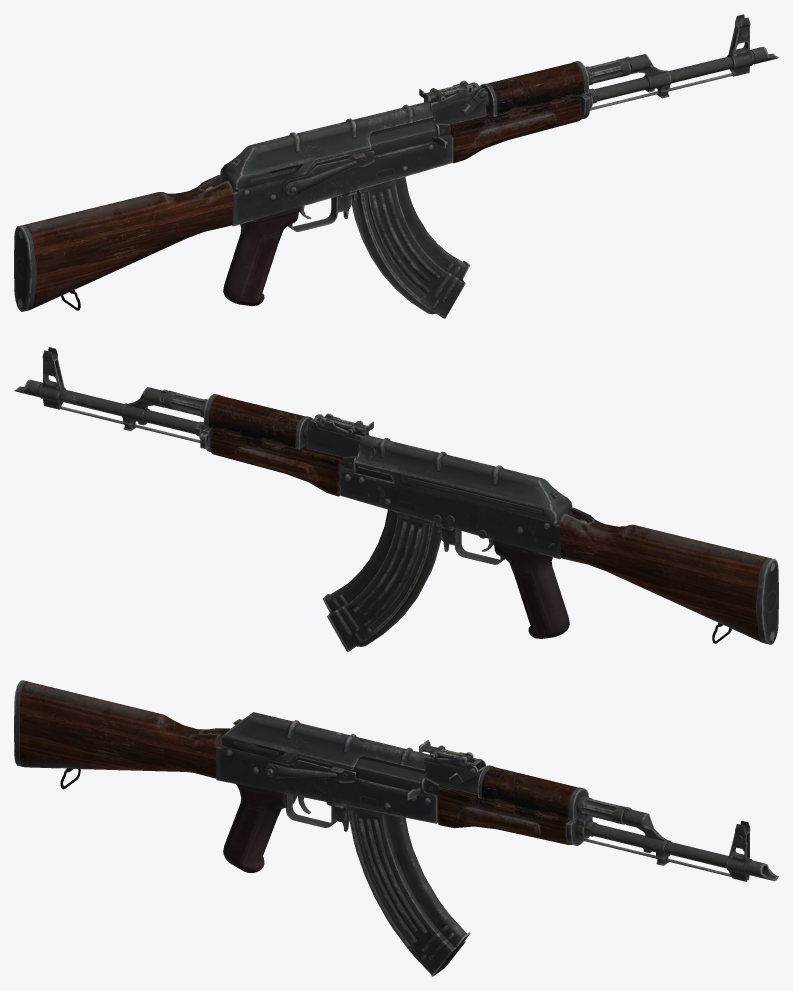
3 views of the same model, one above another, from view 1: azimuth 30°, elevation 25°; view 2: azimuth 150°, elevation 25°; view 3: azimuth 330°, elevation 25° (orthographic).
Visible parts, largest first — view 1: bm_magazine_low_Material #44_0; view 2: bm_magazine_low_Material #44_0; view 3: bm_magazine_low_Material #44_0.
Part boxes in pixels (x1,y1,x2,y2): bm_magazine_low_Material #44_0: (14,14,778,318); bm_magazine_low_Material #44_0: (14,347,778,651); bm_magazine_low_Material #44_0: (14,680,778,976).
Size of the model in its own units: 1.92 by 0.5478 by 0.135.
1 material, 1 textured.
